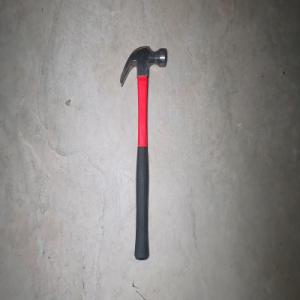Hammer: (119, 44, 166, 261)
